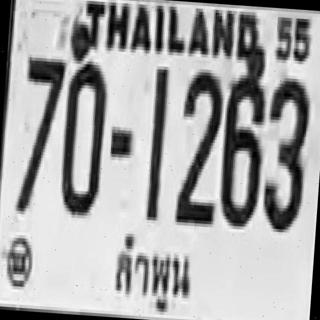N00: (57, 58, 107, 215)
N01: (144, 65, 168, 219)
N02: (173, 68, 223, 221)
N03: (260, 74, 310, 230)
N06: (218, 71, 266, 224)
N07: (14, 54, 64, 213)
P21: (106, 227, 198, 318)
